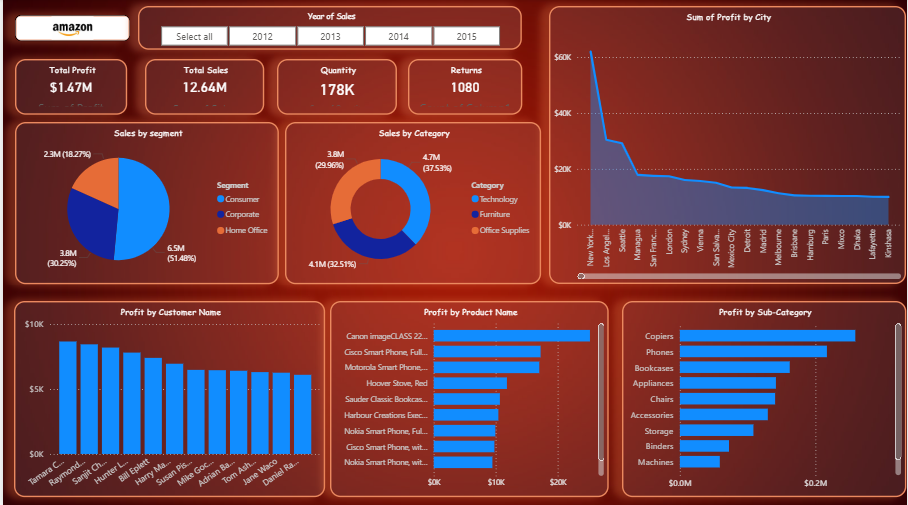

The page's visual inventory and layout, read from the dashboard file:
{"tool":"powerbi","page":{"name":"Page 1","canvas":[1280,720],"ordinal":0},"visuals":[{"type":"image","box":[17,22.7,163,36.9],"z":0},{"type":"slicer","title":"Year of Sales","fields":{"Values":["Orders.Order Date.Variation.Date Hierarchy.Year"]},"box":[191.3,9.9,544.3,62.4],"z":1000},{"type":"card","title":"Total Profit","fields":{"Values":["Sum(Orders.Profit)"]},"box":[17,85,158.7,79.4],"z":2000},{"type":"card","title":"Total Sales","fields":{"Values":["Sum(Orders.Sales)"]},"box":[201.3,85,168.7,79.4],"z":3000},{"type":"card","title":"Quantity","fields":{"Values":["Sum(Orders.Quantity)"]},"box":[388.3,85,170.1,79.4],"z":4000},{"type":"card","title":" Returns","fields":{"Values":["CountNonNull(Returns.Column1)"]},"box":[574,85,161.6,79.4],"z":5000},{"type":"pieChart","title":" Sales by segment","fields":{"Y":["Sum(Orders.Sales)"],"Category":["Orders.Segment"]},"box":[17,174.3,374.2,229.6],"z":6000},{"type":"donutChart","title":"Sales by Category","fields":{"Y":["Sum(Orders.Sales)"],"Category":["Orders.Category"]},"box":[399.7,174.3,362.8,229.6],"z":7000},{"type":"columnChart","title":" Profit by Customer Name","fields":{"Category":["Orders.Customer Name"],"Y":["Sum(Orders.Profit)"]},"box":[15.6,428,440.8,277.8],"z":8000},{"type":"barChart","title":"Profit by Product Name","fields":{"Category":["Orders.Product Name"],"Y":["Sum(Orders.Profit)"]},"box":[463.5,428,395.4,277.8],"z":9000},{"type":"barChart","title":" Profit by Sub-Category","fields":{"Y":["Sum(Orders.Profit)"],"Category":["Orders.Sub-Category"]},"box":[877.3,428,402.5,277.8],"z":10000},{"type":"lineChart","fields":{"Category":["Orders.City"],"Y":["Sum(Orders.Profit)"]},"box":[773.9,9.9,506,394],"z":11000}]}

Visuals, with their boxes in screenshot pixels (x1, y1, x2, y2), scaled from the page's 1280x720 canvas onto the 908x505 screenshot:
image: [12, 16, 128, 42]
"Year of Sales" slicer: [136, 7, 522, 51]
"Total Profit" card: [12, 60, 125, 115]
"Total Sales" card: [143, 60, 262, 115]
"Quantity" card: [275, 60, 396, 115]
" Returns" card: [407, 60, 522, 115]
" Sales by segment" pieChart: [12, 122, 278, 283]
"Sales by Category" donutChart: [284, 122, 541, 283]
" Profit by Customer Name" columnChart: [11, 300, 324, 495]
"Profit by Product Name" barChart: [329, 300, 609, 495]
" Profit by Sub-Category" barChart: [622, 300, 907, 495]
lineChart - Orders.City x Sum(Orders.Profit): [549, 7, 907, 283]
